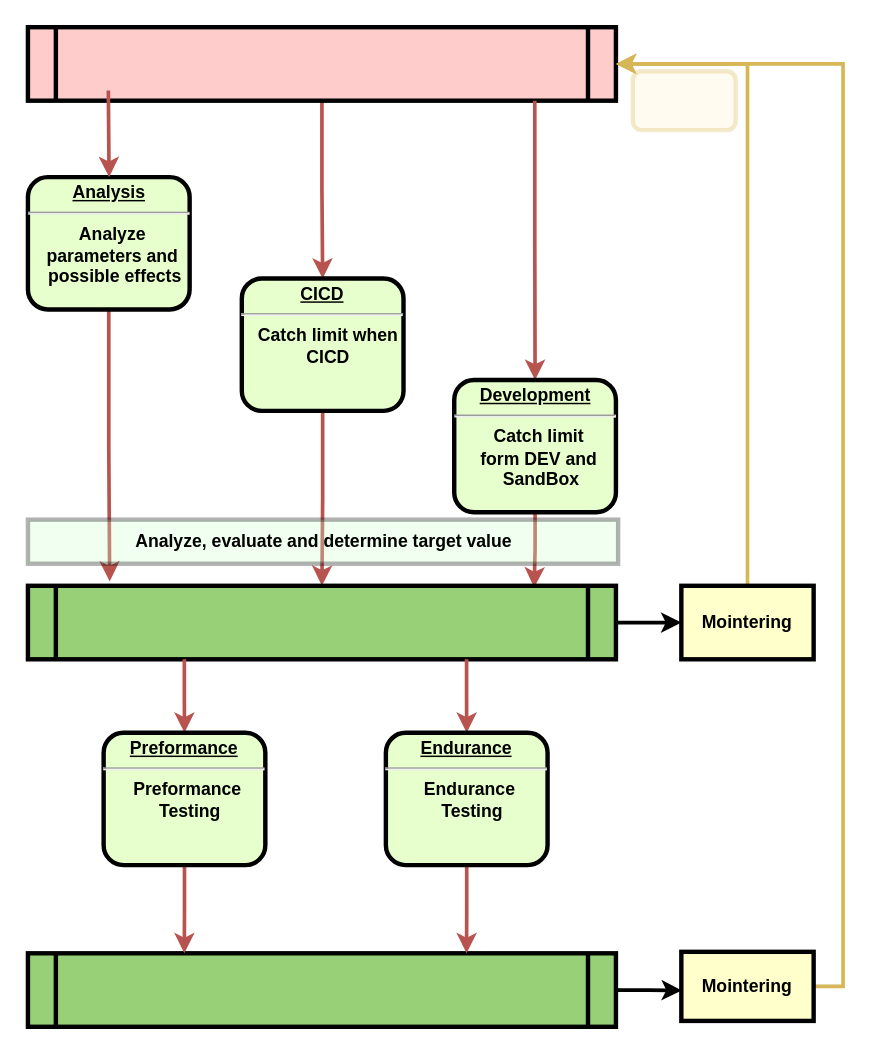
Image size: 882x1054. Some labels were removed from this diagram. The shapes that lost their labels are listed below. From the top down, each one's centre as x and y in pixels, then its label:
At (321,63): "AWS Service Quotas with Default Value".
At (683,100): "Sync up".
At (321,622): "AWS Service Quotas with Target Value".
At (321,989): "AWS Service Quotas on Prod".
